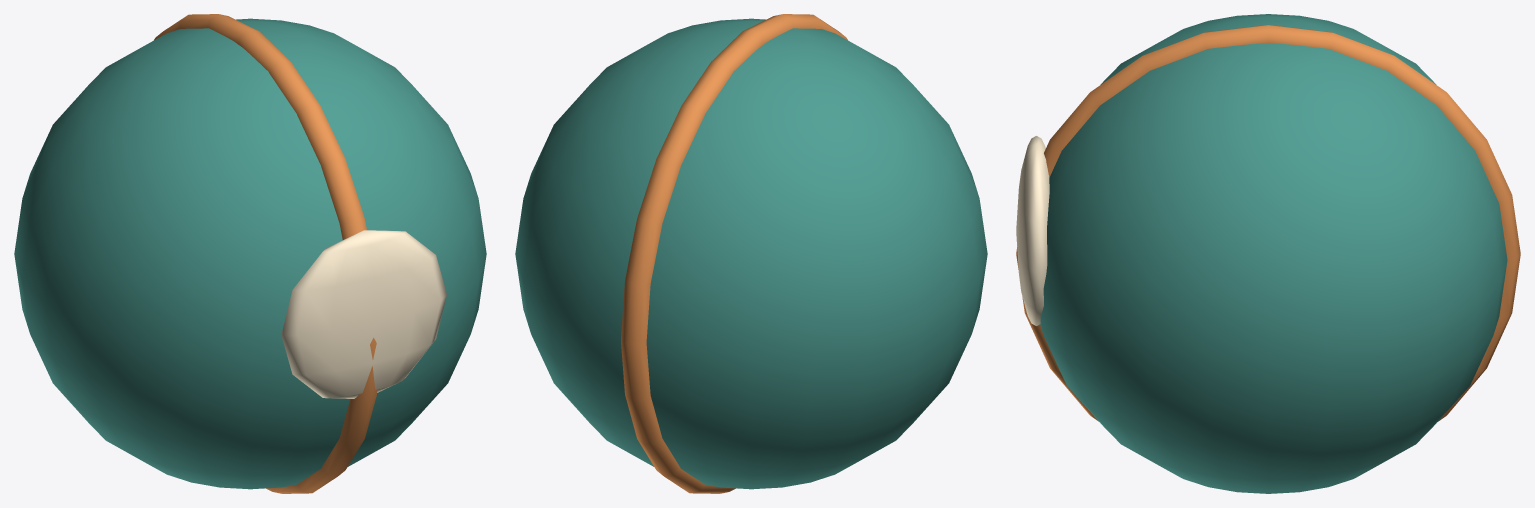
The model's file is goal_toy.glb.
3 views of the same model, side by side, from view 1: azimuth 30°, elevation 25°; view 2: azimuth 150°, elevation 25°; view 3: azimuth 270°, elevation 25° (orthographic).
Parts seen in each view (by area): view 1: goal_toy_mesh; view 2: goal_toy_mesh; view 3: goal_toy_mesh.
Boxes of the visible parts, <box> form: goal_toy_mesh: <box>14,14,486,493</box>; goal_toy_mesh: <box>515,14,987,493</box>; goal_toy_mesh: <box>1016,14,1520,493</box>.
Bounding box in the file's own units: 0.38 × 0.398 × 0.398.
